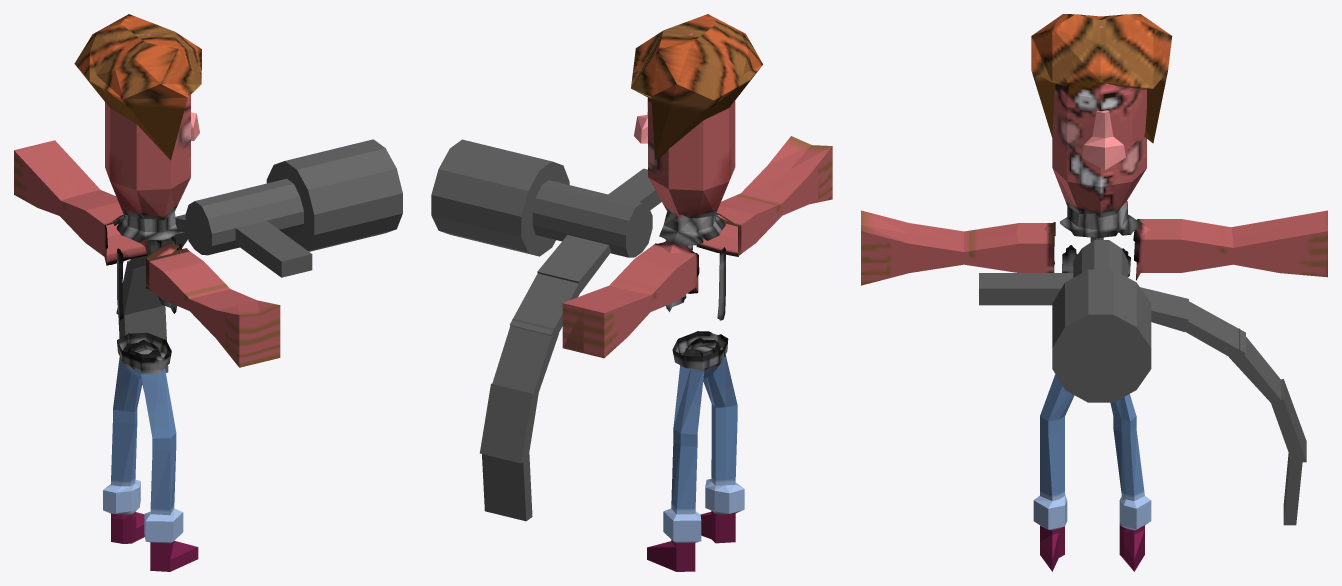
The model's file is BadF2.glb.
3 renders of one model, left to right at view 1: azimuth 30°, elevation 25°; view 2: azimuth 150°, elevation 25°; view 3: azimuth 270°, elevation 25°, orthographic. The views are drawn at different scales.
Visible parts, largest first — view 1: BadF2; view 2: BadF2; view 3: BadF2.
Boxes of the visible parts, x1,y1,x2,y2 form: BadF2: (14,14,402,571); BadF2: (431,14,832,571); BadF2: (861,14,1327,571).
Size of the model in its own units: 53.23 by 90.96 by 71.63.
Materials: 1 (1 with a texture image).
